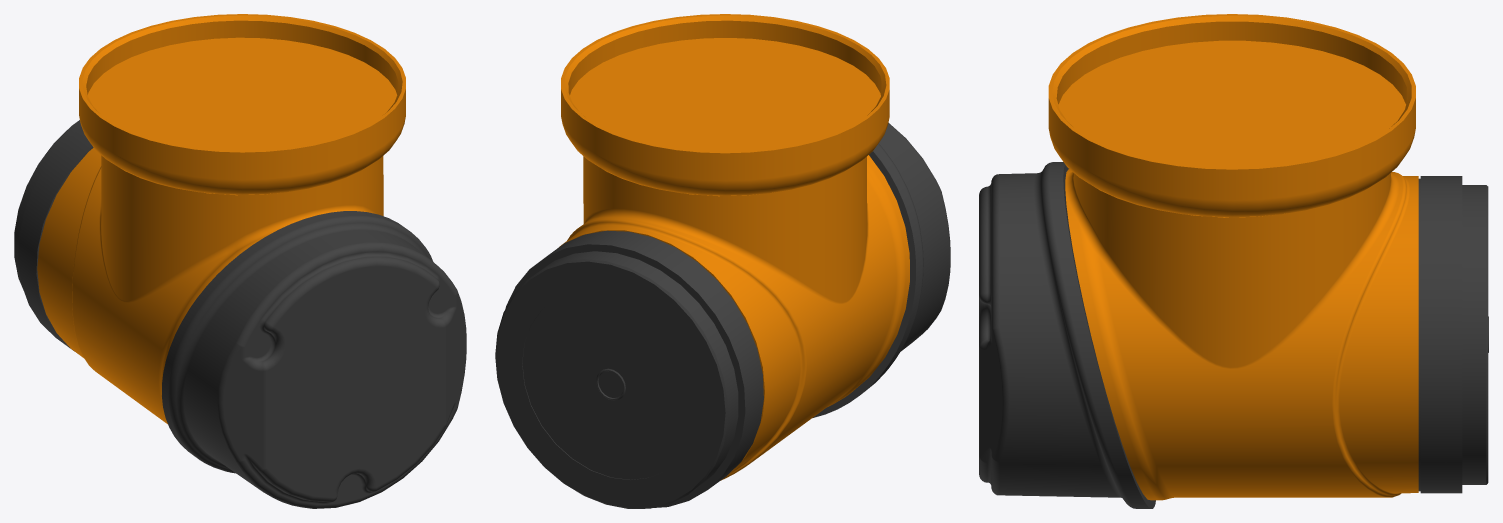
The picture shows the model from 3 angles, left to right: view 1: azimuth 30°, elevation 25°; view 2: azimuth 150°, elevation 25°; view 3: azimuth 270°, elevation 25°; orthographic projection. The views are drawn at different scales.
Visible parts, largest first — view 1: NONE, FBXASC195FBXASC137FBXASC194FBXASC190FBXASC194FBXASC179FBXASC; view 2: NONE, FBXASC195FBXASC137FBXASC194FBXASC190FBXASC194FBXASC179FBXASC; view 3: NONE, FBXASC195FBXASC137FBXASC194FBXASC190FBXASC194FBXASC179FBXASC.
Boxes of the visible parts, x1,y1,x2,y2 form: NONE: (14,120,466,508); FBXASC195FBXASC137FBXASC194FBXASC190FBXASC194FBXASC179FBXASC: (79,14,405,194); NONE: (495,123,950,508); FBXASC195FBXASC137FBXASC194FBXASC190FBXASC194FBXASC179FBXASC: (561,14,889,195); NONE: (979,162,1488,508); FBXASC195FBXASC137FBXASC194FBXASC190FBXASC194FBXASC179FBXASC: (1048,14,1415,217).
Size of the model in its own units: 0.087 by 0.1204 by 0.1045.
